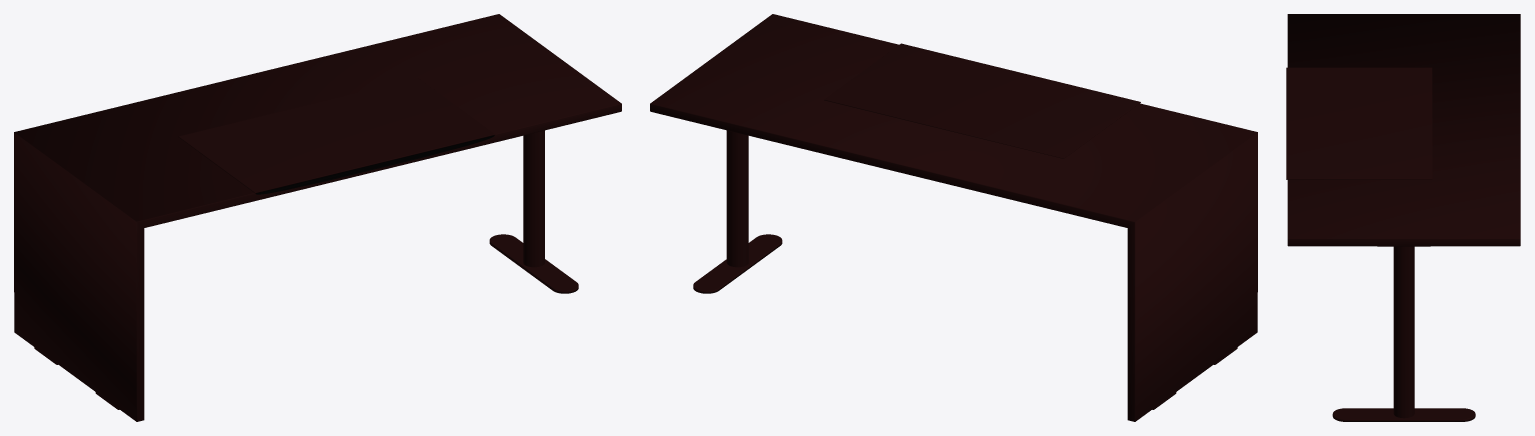
The model's file is Desk.obj.
3 views of the same model, side by side, from view 1: azimuth 30°, elevation 25°; view 2: azimuth 150°, elevation 25°; view 3: azimuth 270°, elevation 25° (orthographic). The views are drawn at different scales.
Visible parts, largest first — view 1: Desk_Plane.021; view 2: Desk_Plane.021; view 3: Desk_Plane.021.
Part boxes in pixels (x1=…): Desk_Plane.021: x1=14, y1=14, x2=621, y2=421; Desk_Plane.021: x1=650, y1=14, x2=1257, y2=421; Desk_Plane.021: x1=1286, y1=14, x2=1520, y2=421.
Size of the model in its own units: 1.83 by 0.7306 by 0.8044.
